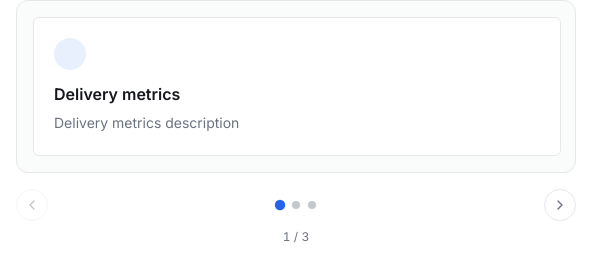
Test: Carousel (React Bits, adapted) › moves with the next/previous buttons, the dots and the arrow keys
Step 1. Click the button named "Next feature" → (560, 205), box x1=544 y1=189 x2=576 y2=221
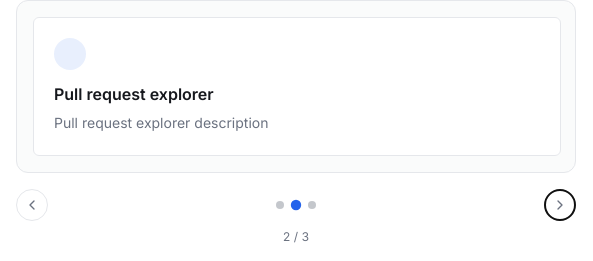
Now the text "2 / 3" is shown, box x1=283 y1=229 x2=309 y2=244
Step 2. Click the button named "Go to Contributors (3 of 3)" → (312, 205), box x1=308 y1=201 x2=316 y2=209
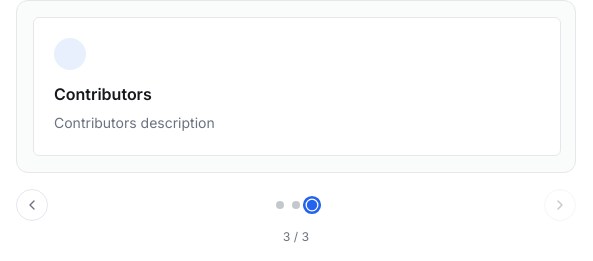
Now the text "3 / 3" is shown, box x1=283 y1=229 x2=309 y2=244
Step 3. Press ArrowLeft in the element named "Features"
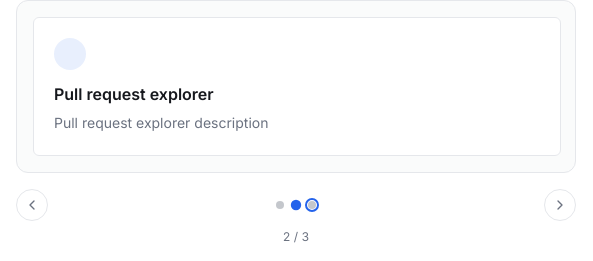
Now the text "2 / 3" is shown, box x1=283 y1=229 x2=309 y2=244
